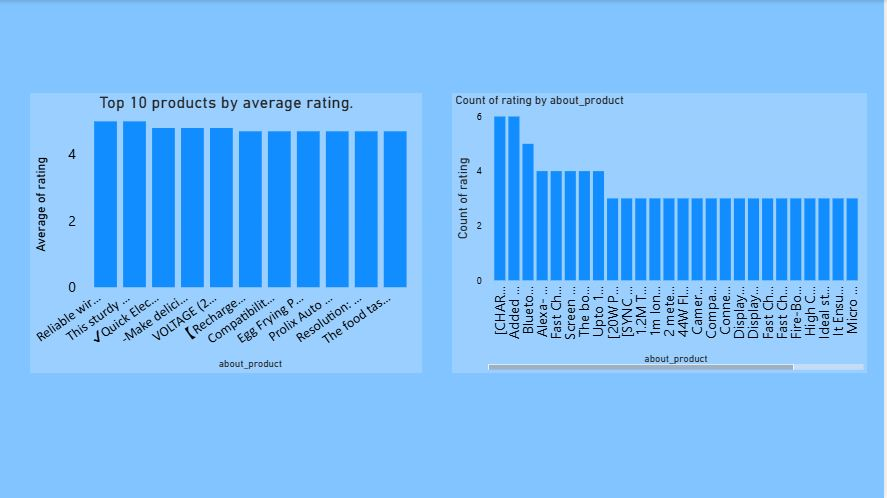

What the dashboard file says about the page in this screenshot:
{"tool":"powerbi","page":{"name":"Top Rated Products","canvas":[1280,720],"ordinal":1},"visuals":[{"type":"columnChart","title":"Top 10 products by average rating.","fields":{"Category":["amazon.about_product"],"Y":["Avg(amazon.rating)"]},"box":[46.3,134.5,566.7,404.8],"z":0},{"type":"clusteredColumnChart","fields":{"Category":["amazon.about_product"],"Y":["CountNonNull(amazon.rating)"]},"box":[656.4,134.5,600,404.8],"z":1000}]}

Visuals, with their boxes in screenshot pixels (x1, y1, x2, y2), scaled from the page's 1280x720 canvas onto the 887x498 screenshot:
"Top 10 products by average rating." columnChart: box(32, 93, 425, 373)
clusteredColumnChart - amazon.about_product x CountNonNull(amazon.rating): box(455, 93, 871, 373)
